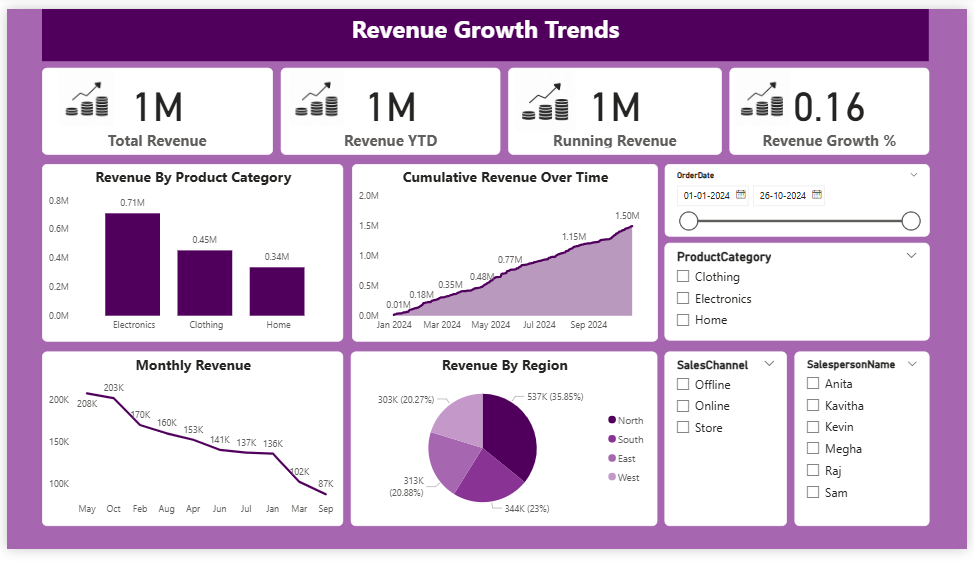

Layout of this report page (visuals, bound fields, positions):
{"tool":"powerbi","page":{"name":"Revenue Growth Trends","canvas":[1280,720],"ordinal":2},"visuals":[{"type":"textbox","box":[46.5,0,1182.5,69.7],"z":0},{"type":"card","fields":{"Values":["sales_dataset.Total Revenue"]},"box":[47.1,78.4,307.6,115.8],"z":1},{"type":"card","fields":{"Values":["sales_dataset.Revenue YTD"]},"box":[364.3,78.4,293.2,115.8],"z":2},{"type":"card","fields":{"Values":["sales_dataset.Running Revenue"]},"box":[668.4,78.4,284.7,115.8],"z":3},{"type":"card","fields":{"Values":["sales_dataset.Revenue Growth %"]},"box":[962.7,78.4,266.6,115.8],"z":4},{"type":"lineChart","title":"Monthly Revenue","fields":{"Y":["sales_dataset.Total Revenue"],"Category":["Date.Month Name"]},"box":[47.1,456,401.7,232.8],"z":5},{"type":"columnChart","title":"Revenue By Product Category","fields":{"Category":["sales_dataset.ProductCategory"],"Y":["sales_dataset.Total Revenue"]},"box":[47.1,206.3,401.7,236.5],"z":6},{"type":"areaChart","title":"Cumulative Revenue Over Time","fields":{"Category":["sales_dataset.OrderDate"],"Y":["sales_dataset.Running Revenue"]},"box":[459.7,206.3,407.8,236.5],"z":7},{"type":"pieChart","title":"Revenue By Region","fields":{"Y":["sales_dataset.Total Revenue"],"Category":["sales_dataset.Region"]},"box":[458.4,456,409,232.8],"z":8},{"type":"slicer","fields":{"Values":["sales_dataset.OrderDate"]},"box":[877.1,206.3,353.5,96.5],"z":9},{"type":"slicer","fields":{"Values":["sales_dataset.SalesChannel"]},"box":[877.1,456,162.9,232.8],"z":10},{"type":"slicer","fields":{"Values":["sales_dataset.ProductCategory"]},"box":[877.1,312.5,353.5,130.3],"z":11},{"type":"slicer","fields":{"Values":["sales_dataset.SalespersonName"]},"box":[1049.6,456,179.8,232.8],"z":12},{"type":"image","box":[59.1,78.4,96.5,83.2],"z":13},{"type":"image","box":[354.7,78.4,115.8,83.2],"z":14},{"type":"image","box":[668.4,78.4,97.7,90.5],"z":15},{"type":"image","box":[962.7,78.4,86.9,83.2],"z":16}]}

Visuals, with their boxes in screenshot pixels (x1, y1, x2, y2), scaled from the page's 1280x720 canvas onto the 974x561 screenshot:
textbox: (left=35, top=0, right=935, bottom=54)
card - sales_dataset.Total Revenue: (left=36, top=61, right=270, bottom=151)
card - sales_dataset.Revenue YTD: (left=277, top=61, right=500, bottom=151)
card - sales_dataset.Running Revenue: (left=509, top=61, right=725, bottom=151)
card - sales_dataset.Revenue Growth %: (left=733, top=61, right=935, bottom=151)
"Monthly Revenue" lineChart: (left=36, top=355, right=342, bottom=537)
"Revenue By Product Category" columnChart: (left=36, top=161, right=342, bottom=345)
"Cumulative Revenue Over Time" areaChart: (left=350, top=161, right=660, bottom=345)
"Revenue By Region" pieChart: (left=349, top=355, right=660, bottom=537)
slicer - sales_dataset.OrderDate: (left=667, top=161, right=936, bottom=236)
slicer - sales_dataset.SalesChannel: (left=667, top=355, right=791, bottom=537)
slicer - sales_dataset.ProductCategory: (left=667, top=243, right=936, bottom=345)
slicer - sales_dataset.SalespersonName: (left=799, top=355, right=935, bottom=537)
image: (left=45, top=61, right=118, bottom=126)
image: (left=270, top=61, right=358, bottom=126)
image: (left=509, top=61, right=583, bottom=132)
image: (left=733, top=61, right=799, bottom=126)
